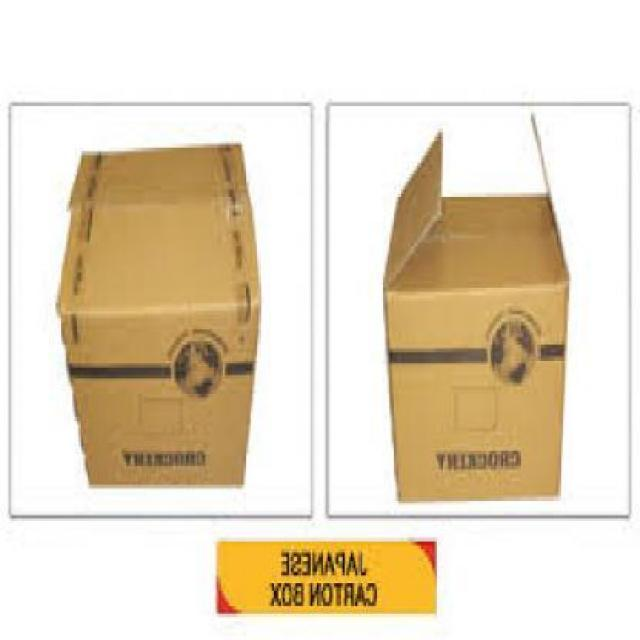box: (388, 109, 574, 500), (60, 142, 266, 489)
